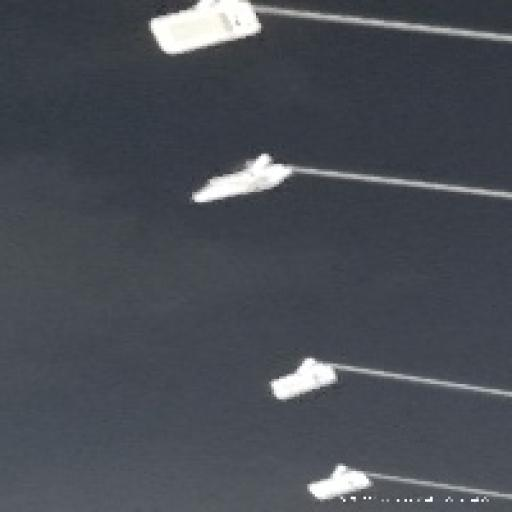Not Working: (142, 0, 282, 67), (177, 150, 300, 224), (257, 349, 349, 420), (292, 453, 376, 511)
